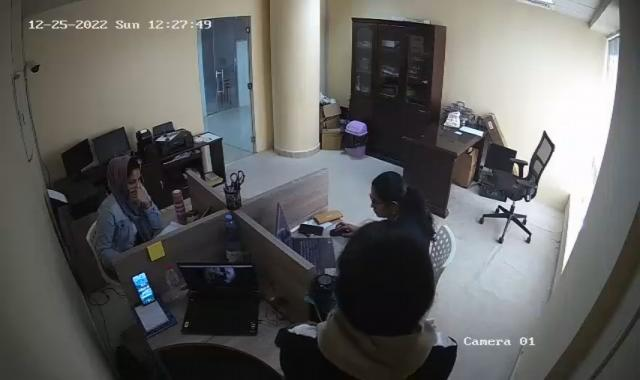no_hairnet: (338, 222, 435, 348), (362, 169, 414, 217), (107, 152, 143, 190)
